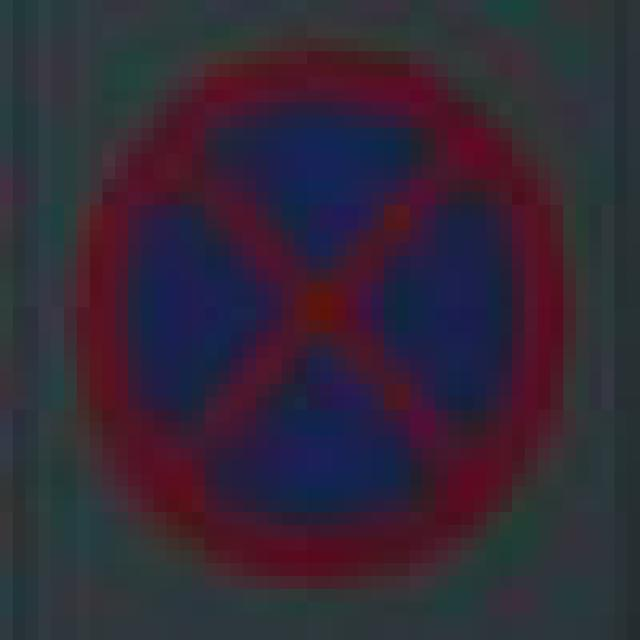no stopping or standing: (70, 51, 572, 576)
